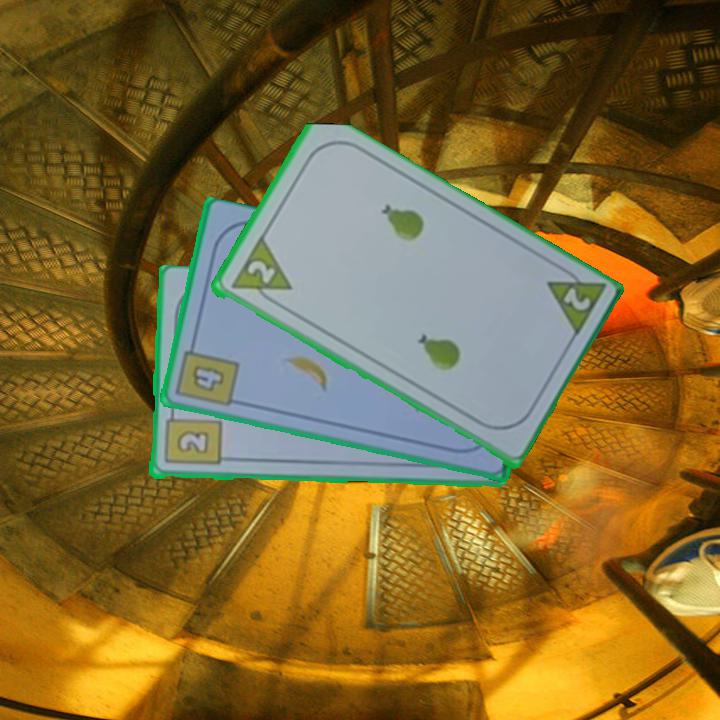2b: (161, 406, 223, 469)
2p: (243, 256, 278, 288), (559, 284, 594, 314)
4b: (172, 337, 242, 410)
